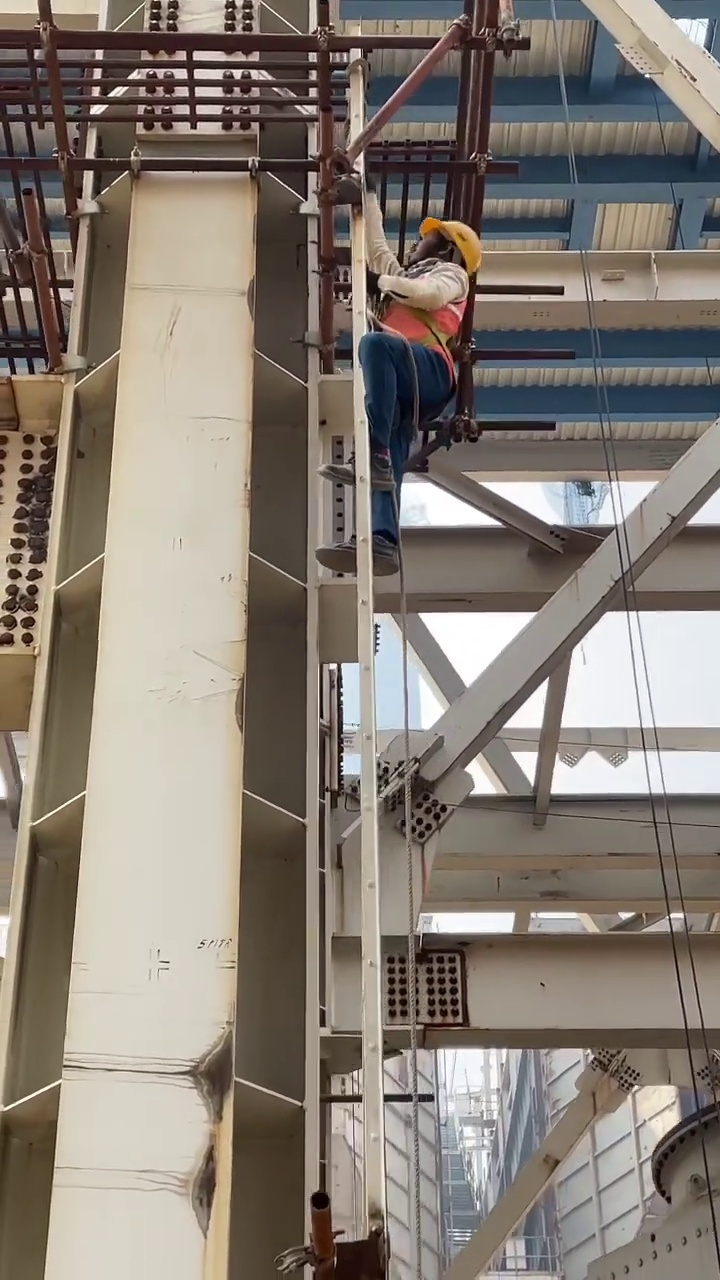Helmet: (416, 215, 482, 265)
Person: (309, 213, 483, 578)
Safety_Harness: (381, 289, 467, 429)
Safety_shoes: (313, 530, 400, 576), (320, 449, 395, 492)
